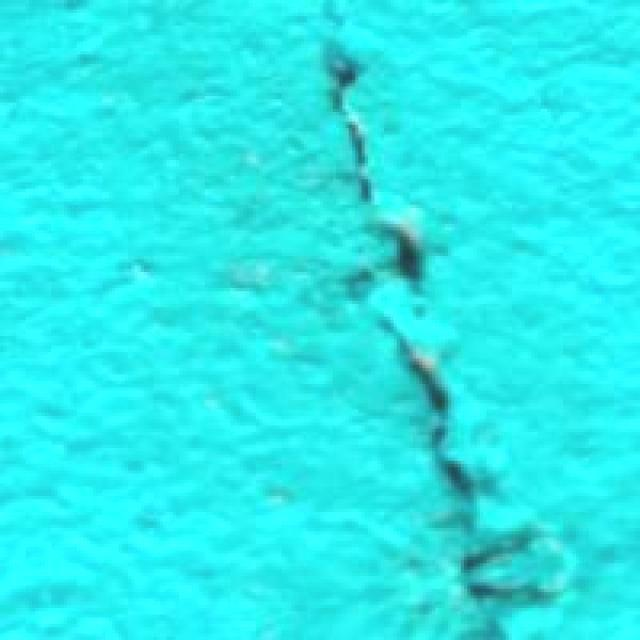crack: (326, 0, 548, 640)
